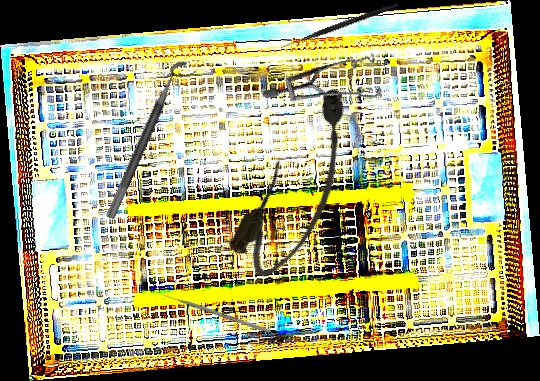Cannula: (222, 78, 379, 288)
Fixation Ring: (104, 57, 199, 226)
Hook Surgical: (280, 0, 399, 52)
Pusher: (155, 290, 272, 334)
Speculum: (261, 20, 397, 140)
